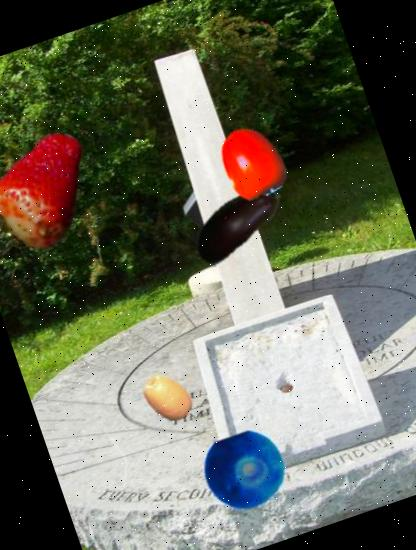Eggplant: (172, 158, 302, 288)
Huckleberry: (193, 419, 298, 522)
Kaki: (204, 114, 300, 210)
Kumquats: (134, 364, 202, 430)
Strawberry: (0, 112, 118, 262)
